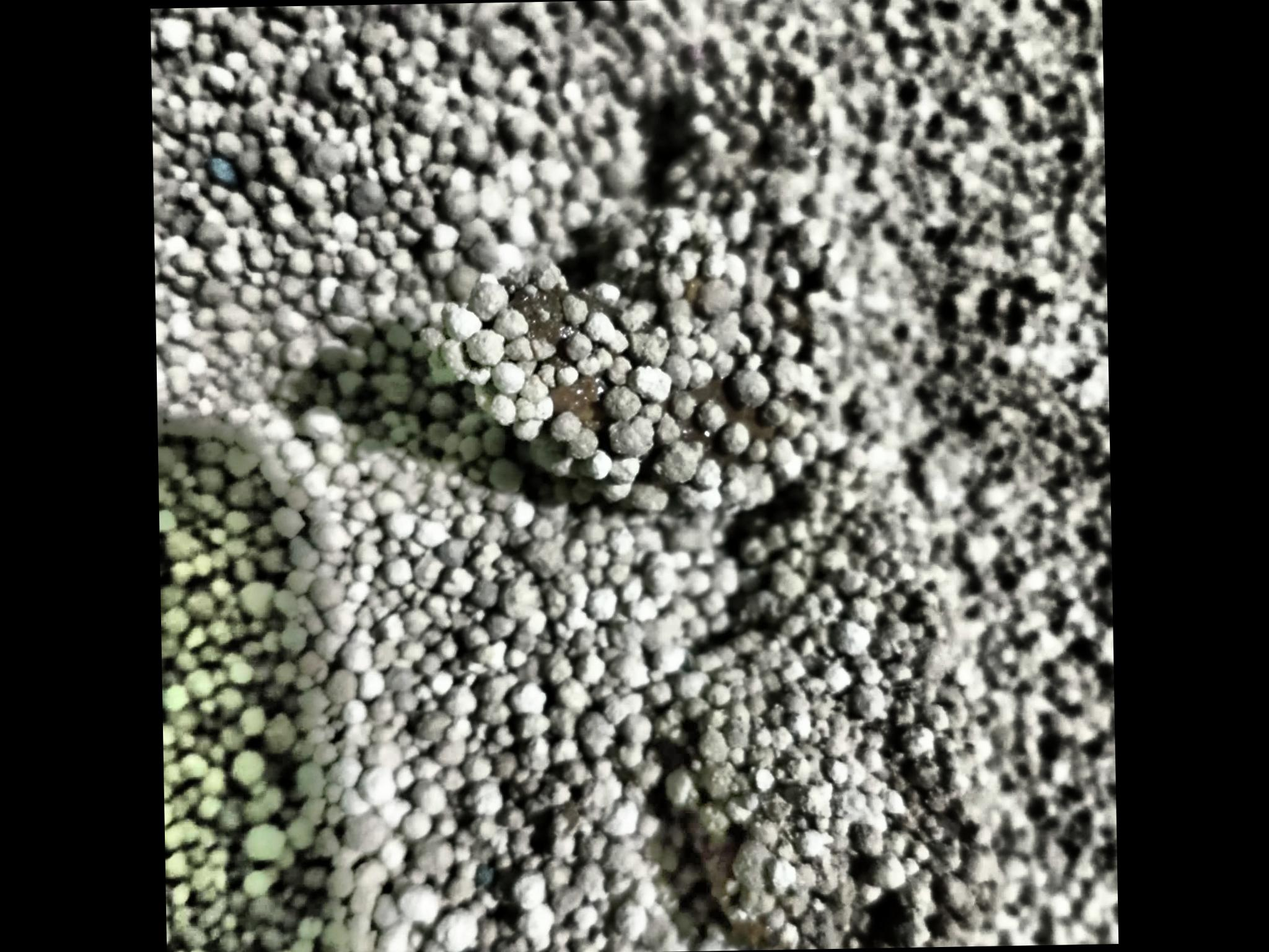poop: (670, 473, 1001, 950), (507, 67, 849, 516)
